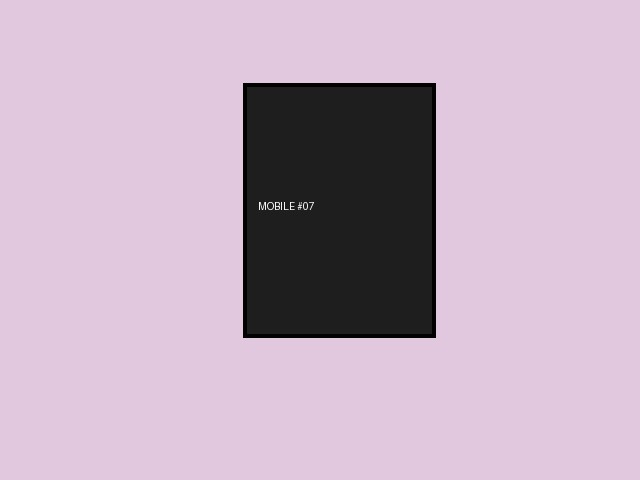mobile_phone: (243, 83, 435, 337)
